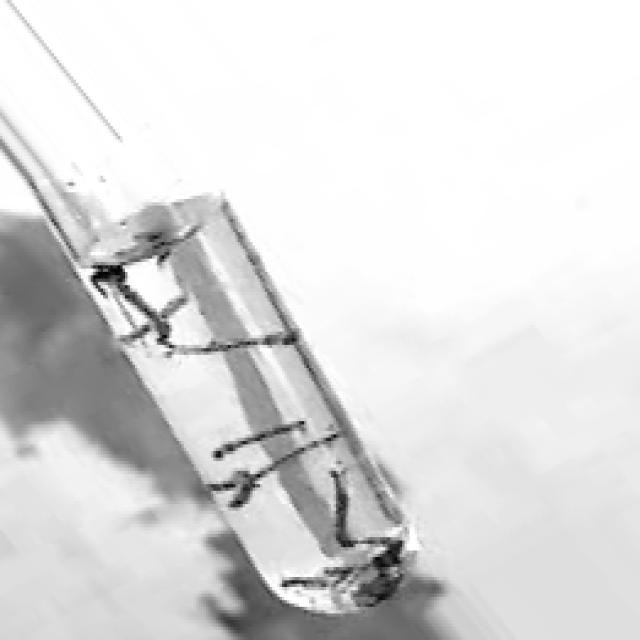larvas: (257, 428, 342, 484), (212, 418, 307, 465), (170, 329, 299, 361), (122, 290, 188, 352), (121, 280, 175, 345), (113, 225, 163, 260), (209, 474, 253, 505), (334, 471, 350, 548), (356, 540, 401, 566), (283, 575, 341, 592), (90, 267, 128, 292), (121, 244, 149, 269), (147, 242, 174, 261)
